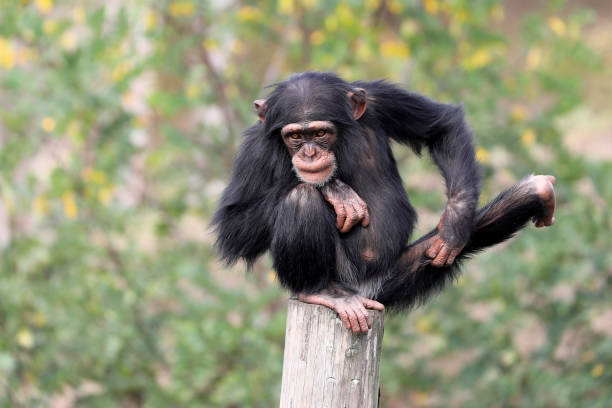chimpanzee: (239, 53, 383, 188)
